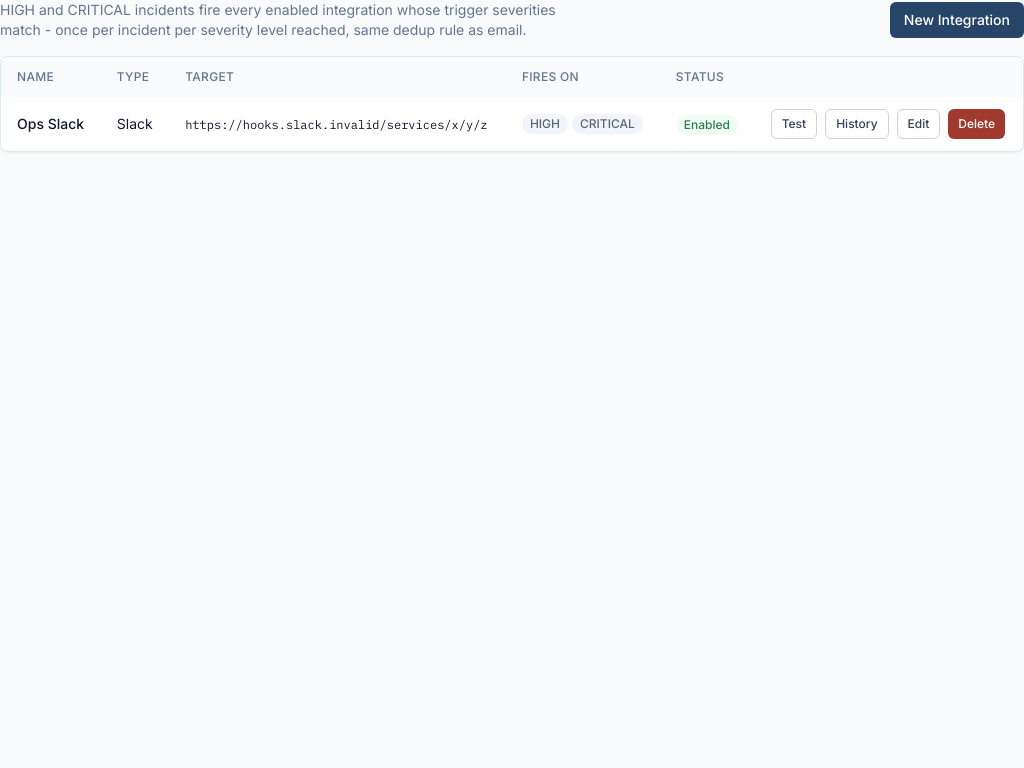
Test case: IntegrationsPanel › deletes an integration after confirmation
Expected: the text "Ops Slack" is shown, [17,115,84,132]
Click the button "Delete" at [977, 124], box [948,109,1005,139]
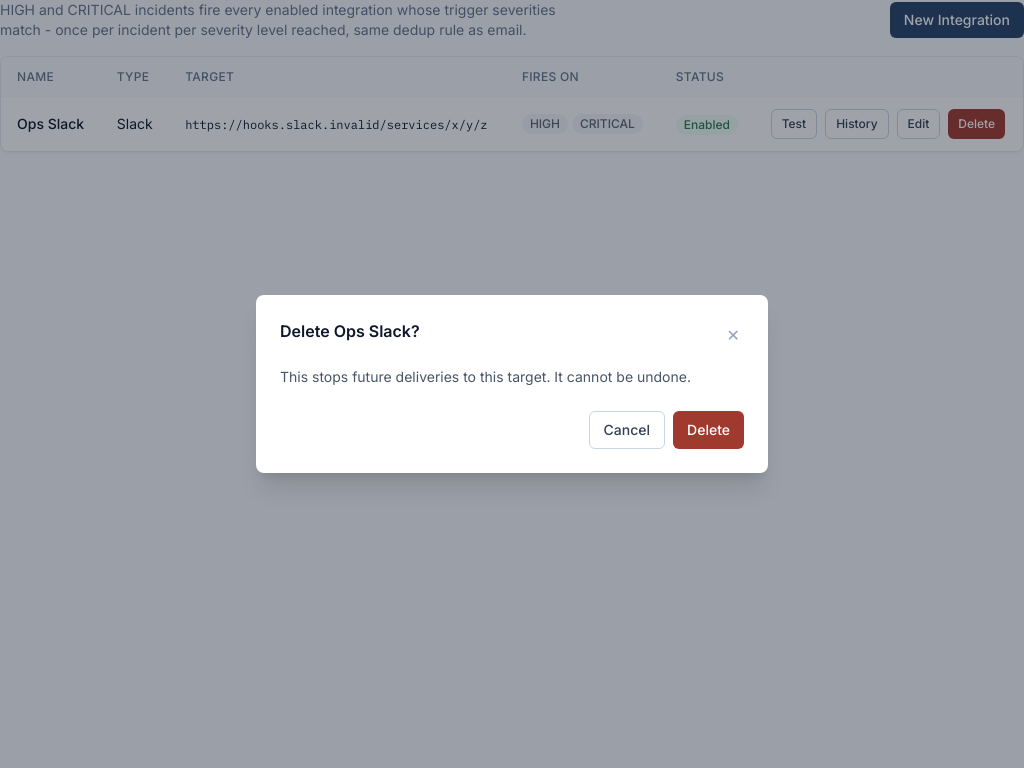
Click the button "Delete" at [709, 430], box [673,411,744,449]
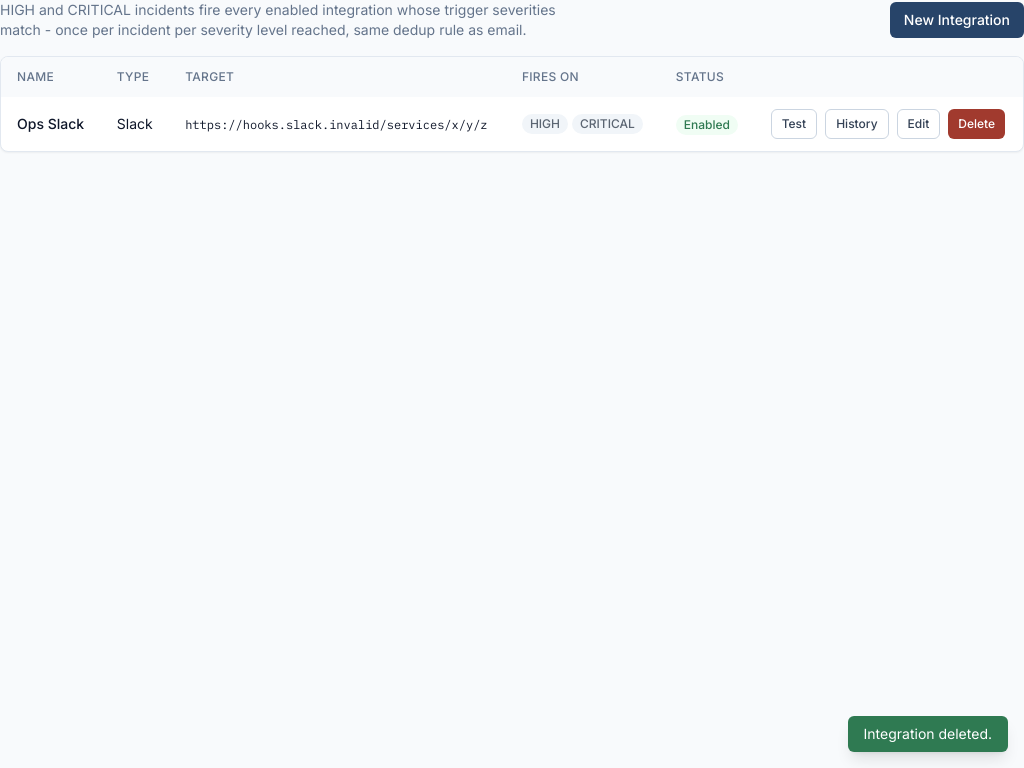
Result: the text "Integration deleted." is shown at [848,716,1008,752]
